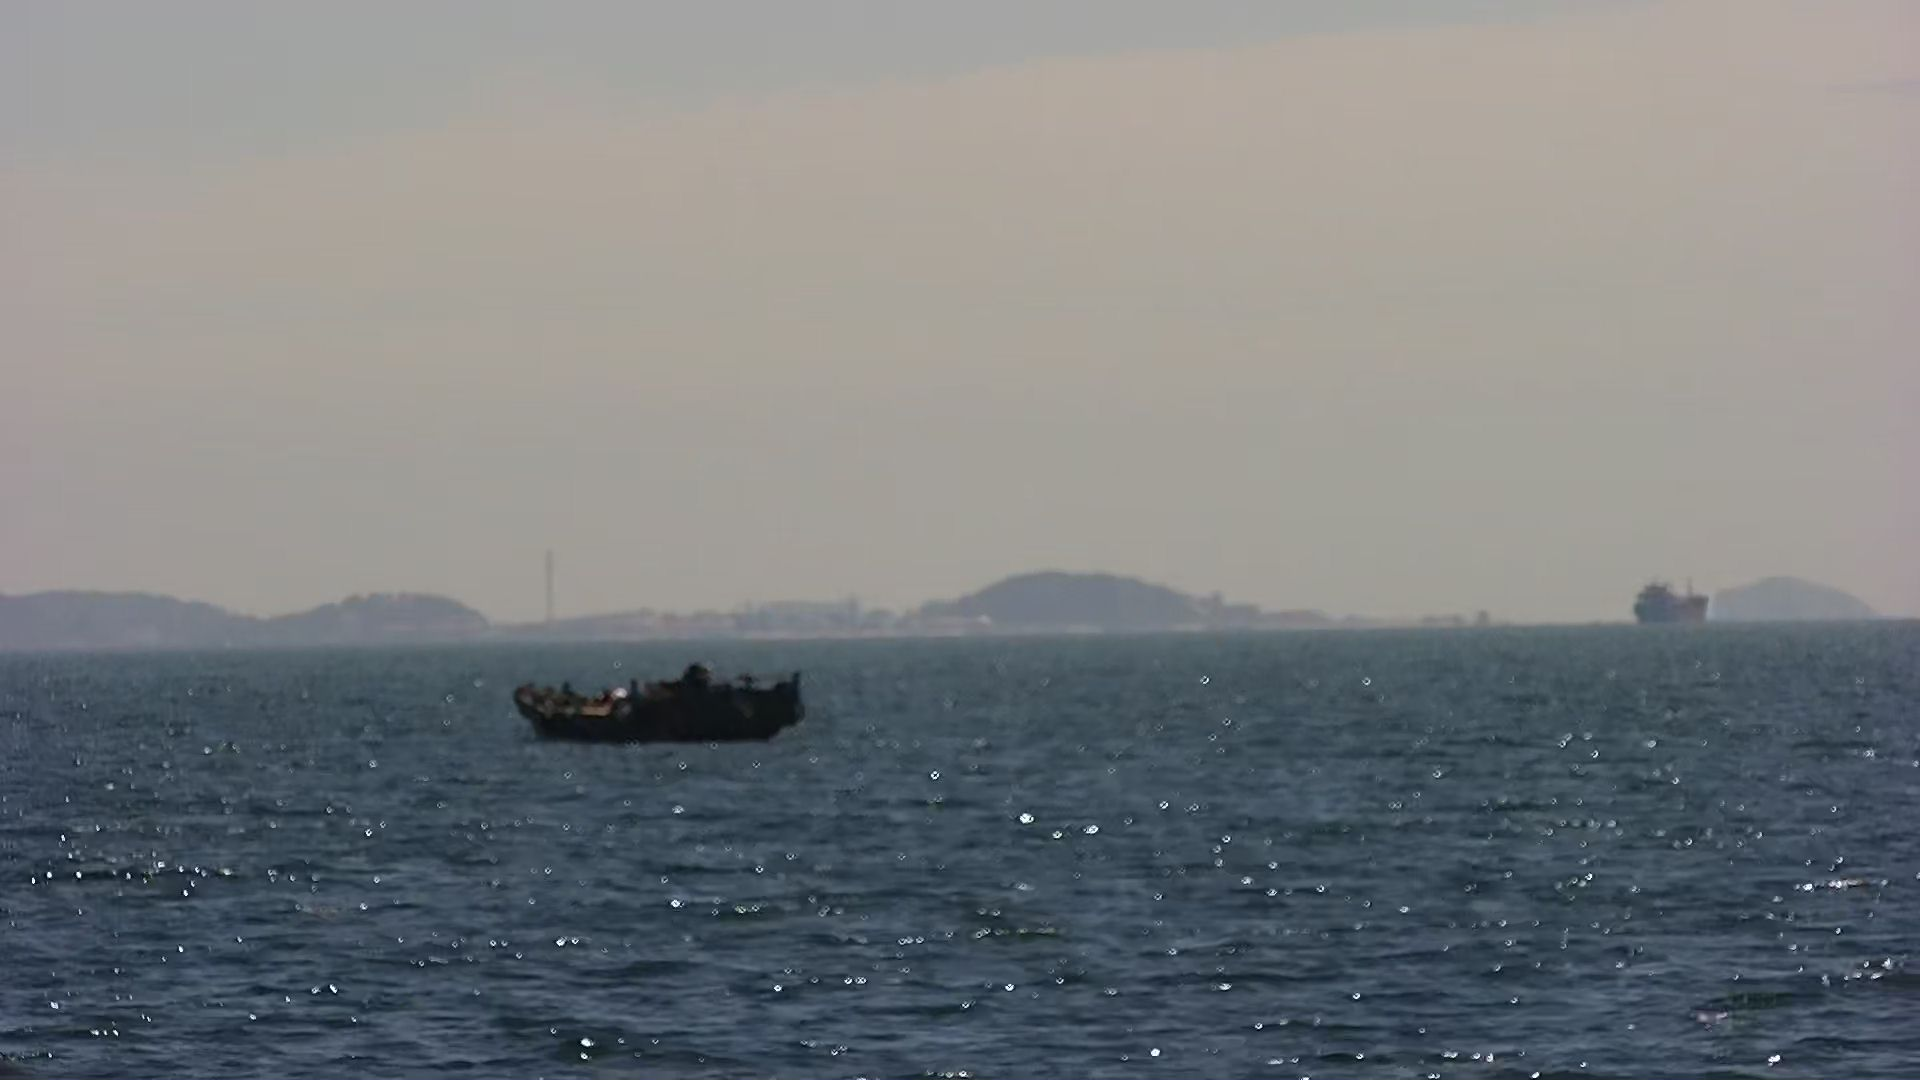boat: (514, 667, 807, 746)
rock: (1695, 572, 1879, 622)
ship: (1627, 575, 1710, 626)
